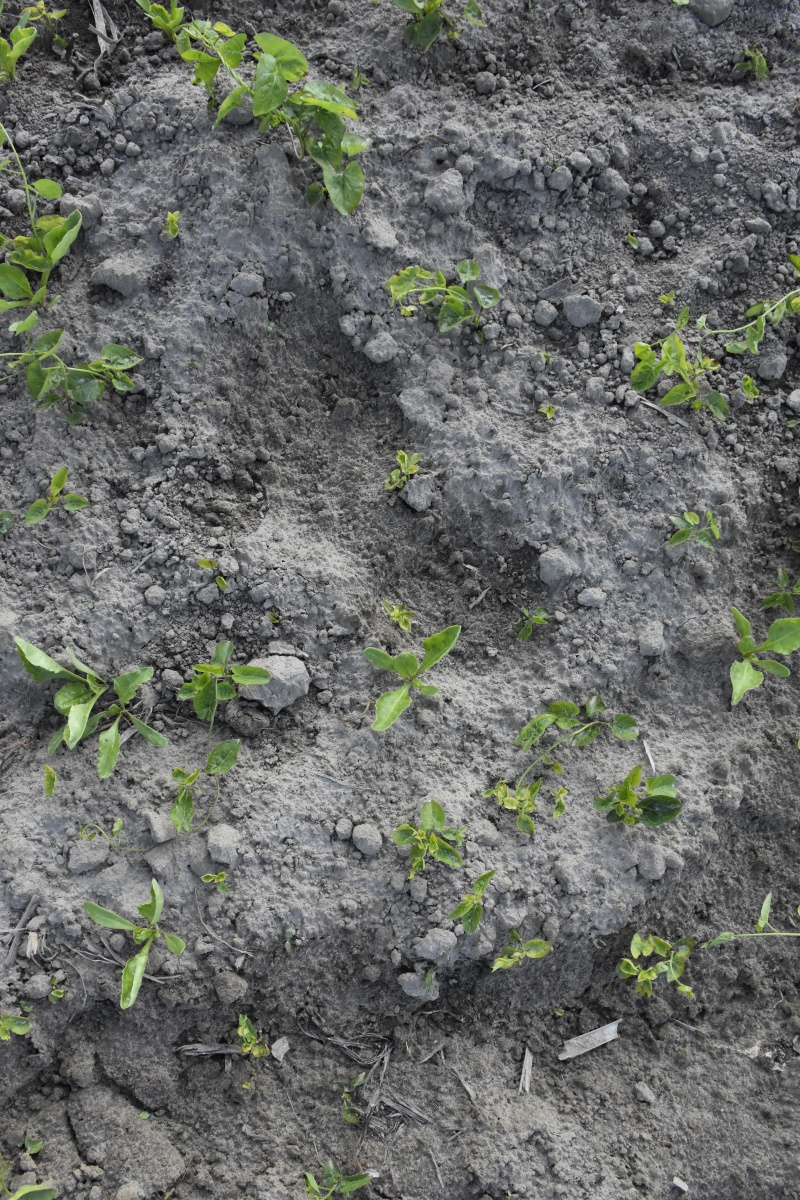field bindweed: (482, 691, 643, 834), (178, 646, 274, 829), (619, 925, 704, 1010), (594, 762, 691, 836), (621, 363, 732, 423), (389, 794, 470, 875), (22, 364, 136, 416), (24, 464, 88, 529), (714, 901, 800, 947), (447, 870, 499, 936), (497, 923, 556, 975), (666, 508, 723, 555), (508, 600, 552, 647), (762, 564, 800, 610), (386, 448, 422, 492), (199, 555, 232, 594), (383, 599, 417, 631), (197, 870, 233, 897), (543, 402, 559, 428)
sugar beet: (79, 884, 200, 1011), (83, 657, 171, 781), (17, 635, 107, 746), (364, 633, 470, 727), (722, 603, 800, 703)
